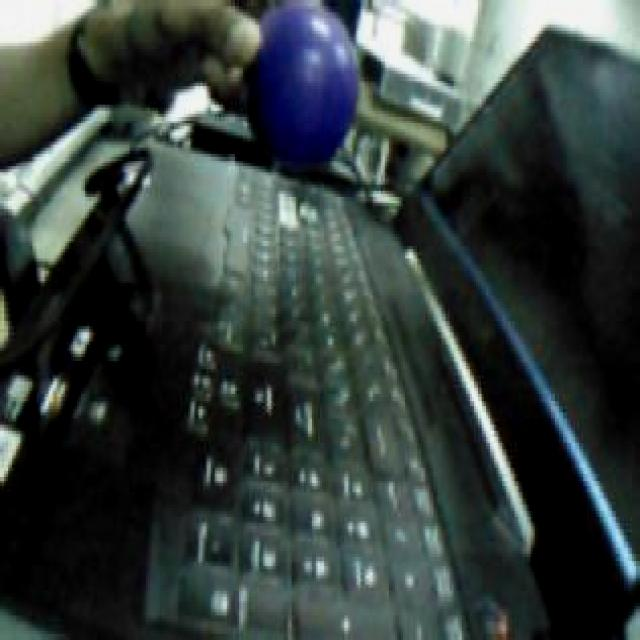BallPurple: (243, 0, 360, 166)
